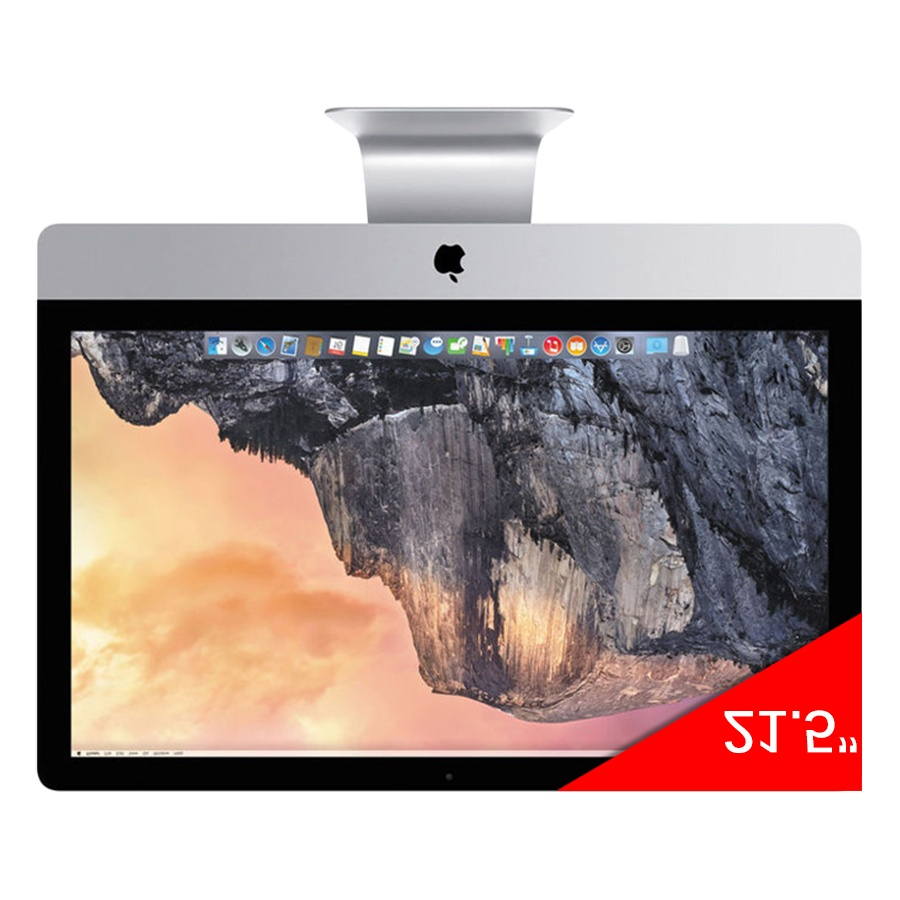Apple: (343, 183, 590, 356)
